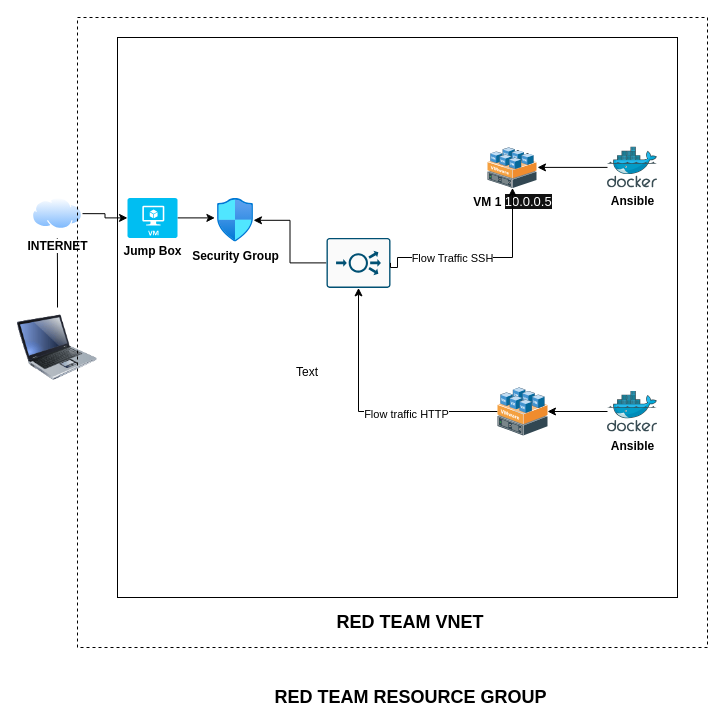
Some shapes in this 725 by 726 pixel diagram are drawn without their labels. Each missing label, with the centre of its shape:
Host Machine: the point at 57,347
Load Balancer: the point at 358,262
VM 2 10.0.0.6: the point at 522,411
